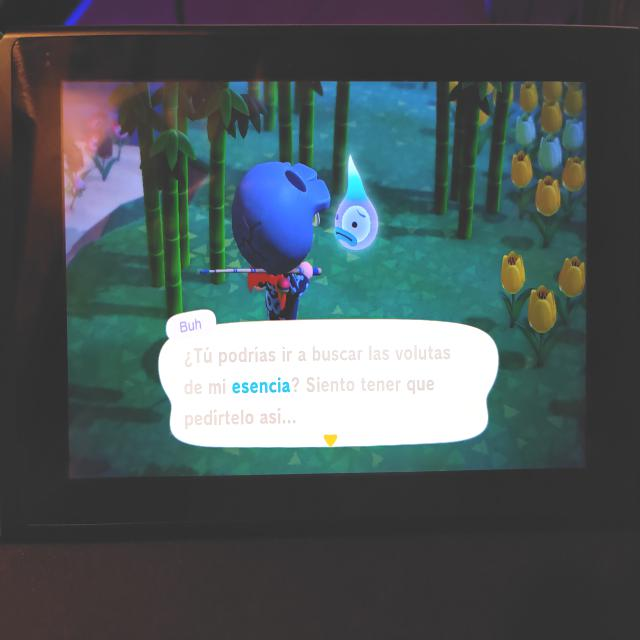text_bubble: (157, 305, 502, 454)
